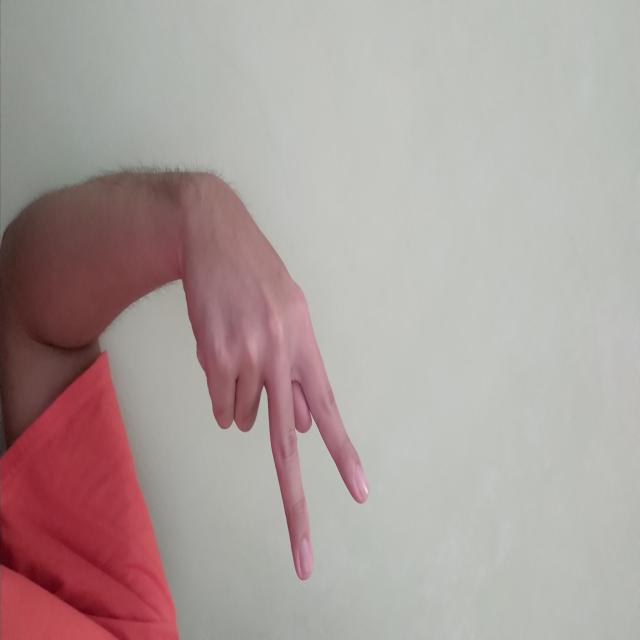K: (170, 269, 584, 459)
